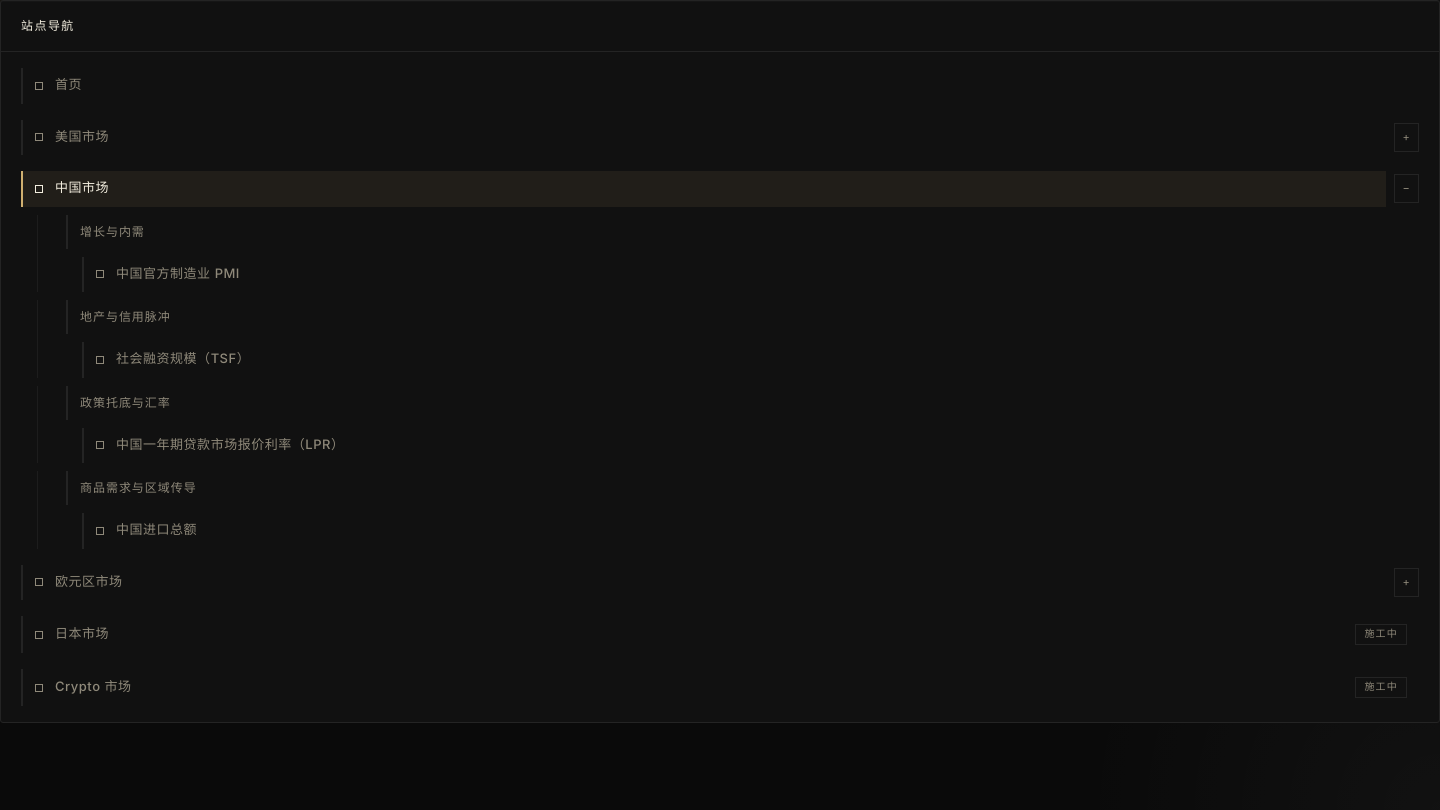
Test: TerminalDirectory › collapses the us market group by default on non-us pages and expands on click
Expected: the link "通胀指标" is not shown
Click the button named "展开美国市场分组". click: (1406, 137)
box: 1394,123 -> 1419,152
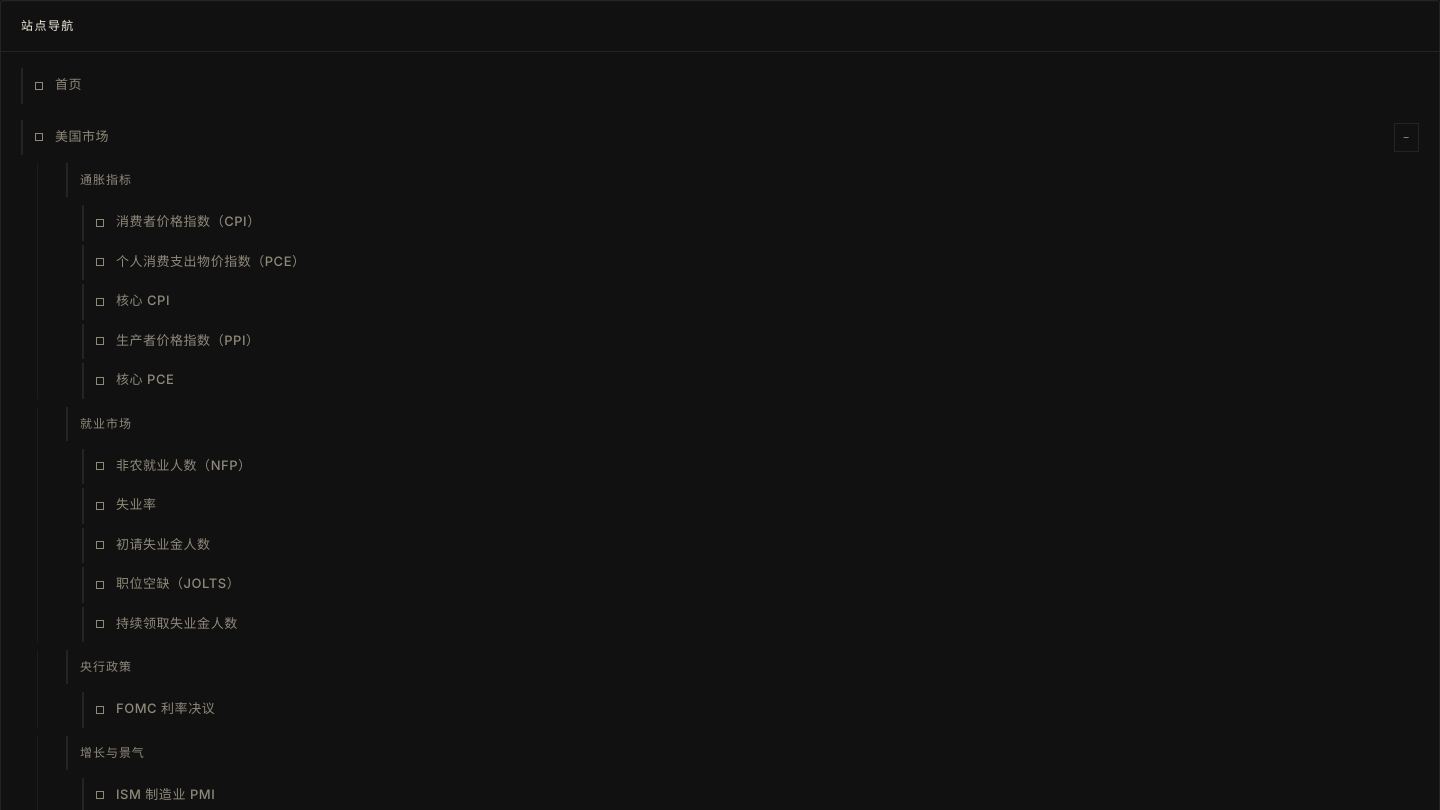
Expected: the link "通胀指标" is shown, 66,163 -> 1419,197
